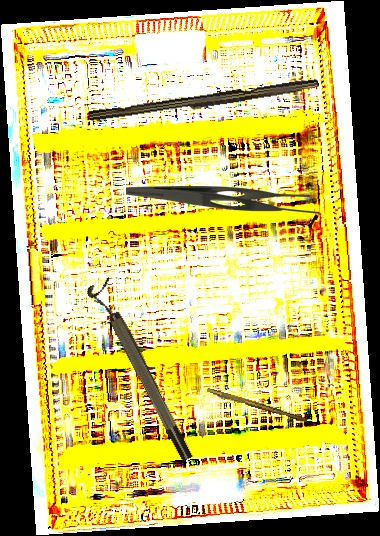Dressing Forceps: (126, 186, 319, 217)
Fixation Ring: (84, 277, 197, 467)
Scalpel Handle: (88, 74, 320, 129), (206, 387, 308, 424)
